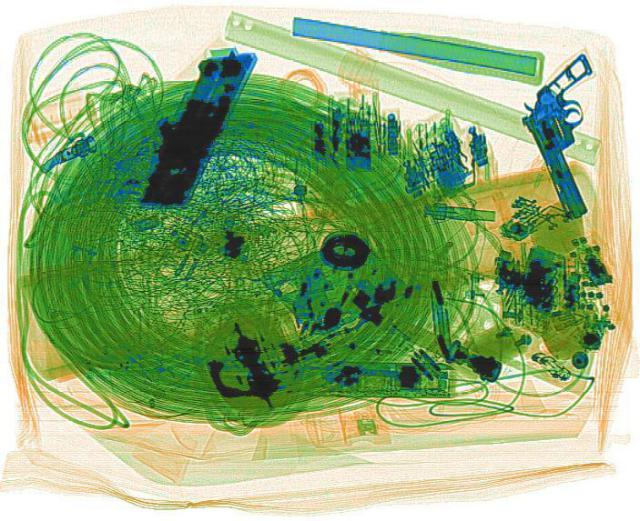Gun: (510, 53, 638, 211)
